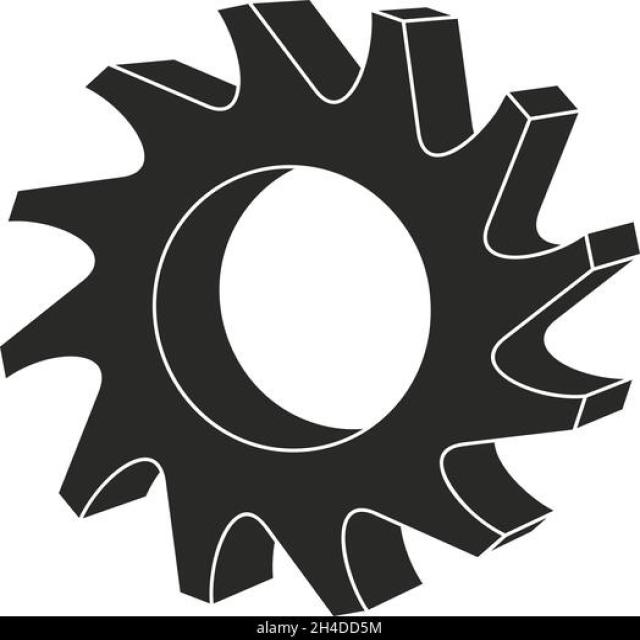Gear: (2, 2, 640, 613)
